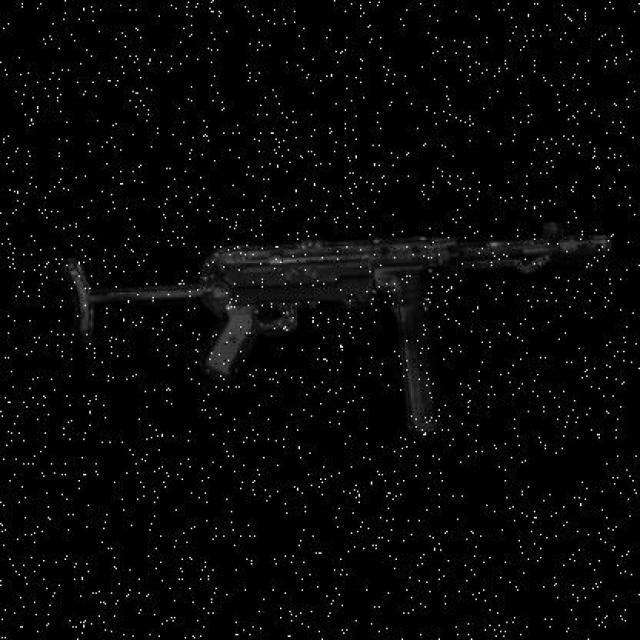weapon: (55, 214, 619, 444)
